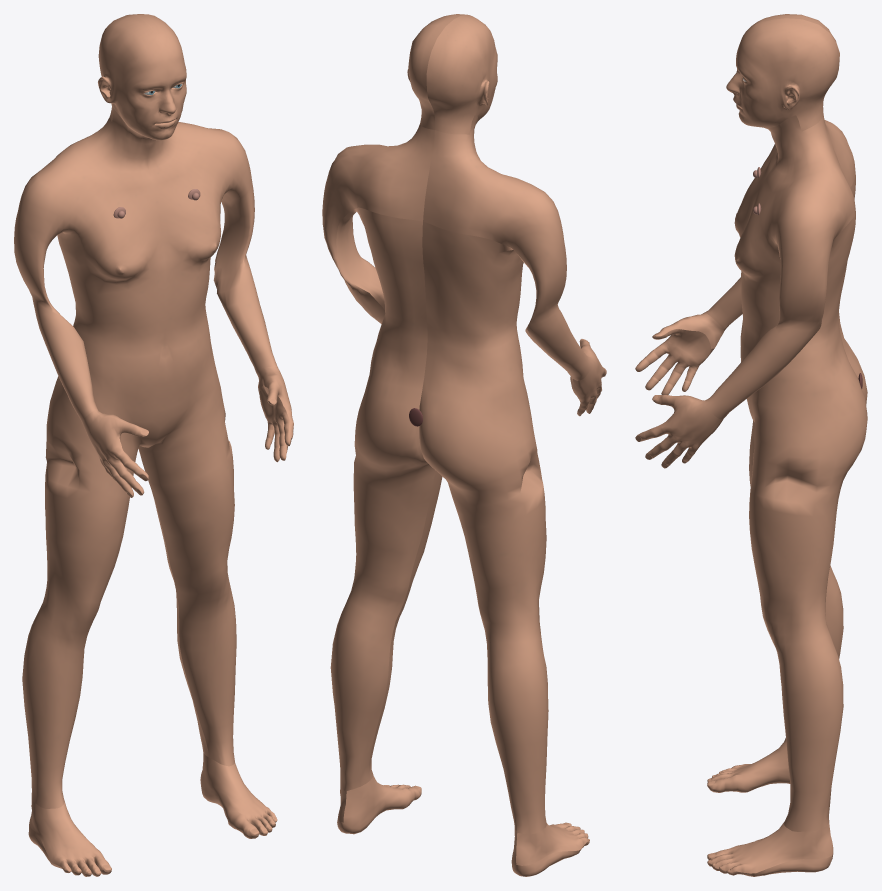
File: body-erwachsener-divers-real-v3.glb
3 renders of one model, left to right at view 1: azimuth 30°, elevation 25°; view 2: azimuth 150°, elevation 25°; view 3: azimuth 270°, elevation 25°, orthographic.
Visible parts, largest first — view 1: real-human-body; view 2: real-human-body; view 3: real-human-body.
Part boxes in pixels (x1,y1,x2,y2): real-human-body: [14, 14, 293, 876]; real-human-body: [322, 14, 606, 876]; real-human-body: [635, 14, 867, 876].
Size of the model in its own units: 0.5144 by 1.72 by 0.4475.
7 materials, 1 textured.
